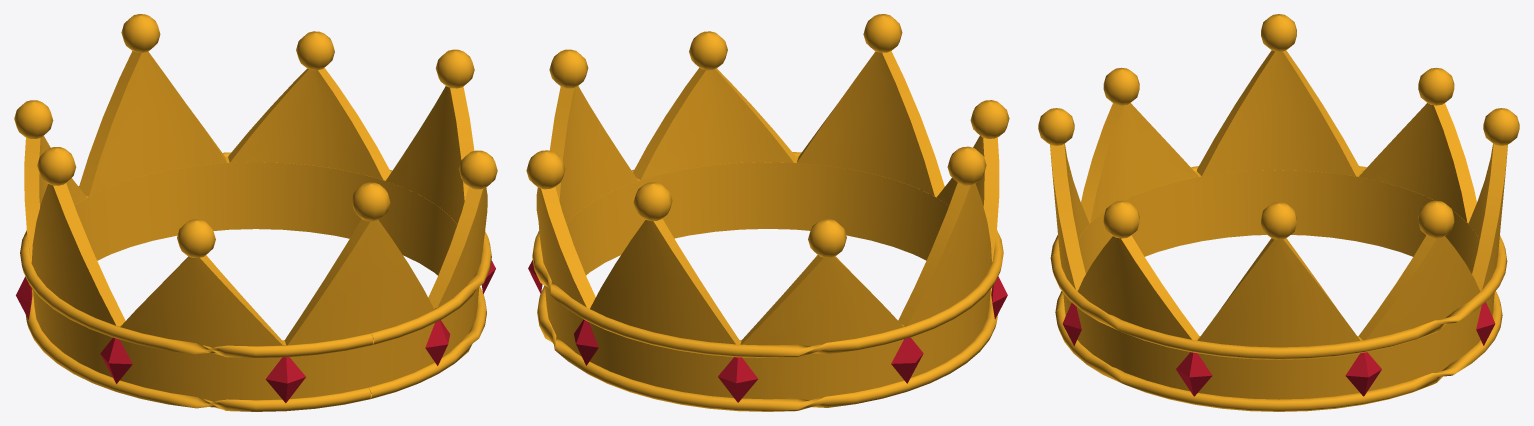
The model's file is hat_crown.glb.
3 renders of one model, left to right at view 1: azimuth 30°, elevation 25°; view 2: azimuth 150°, elevation 25°; view 3: azimuth 270°, elevation 25°, orthographic. The views are drawn at different scales.
Visible parts, largest first — view 1: hat_crown_q; view 2: hat_crown_q; view 3: hat_crown_q.
Boxes of the visible parts, <box> form: hat_crown_q: <box>14,14,497,411</box>; hat_crown_q: <box>526,14,1009,411</box>; hat_crown_q: <box>1038,14,1519,411</box>.
Size of the model in its own units: 2.67 by 1.28 by 2.66.
